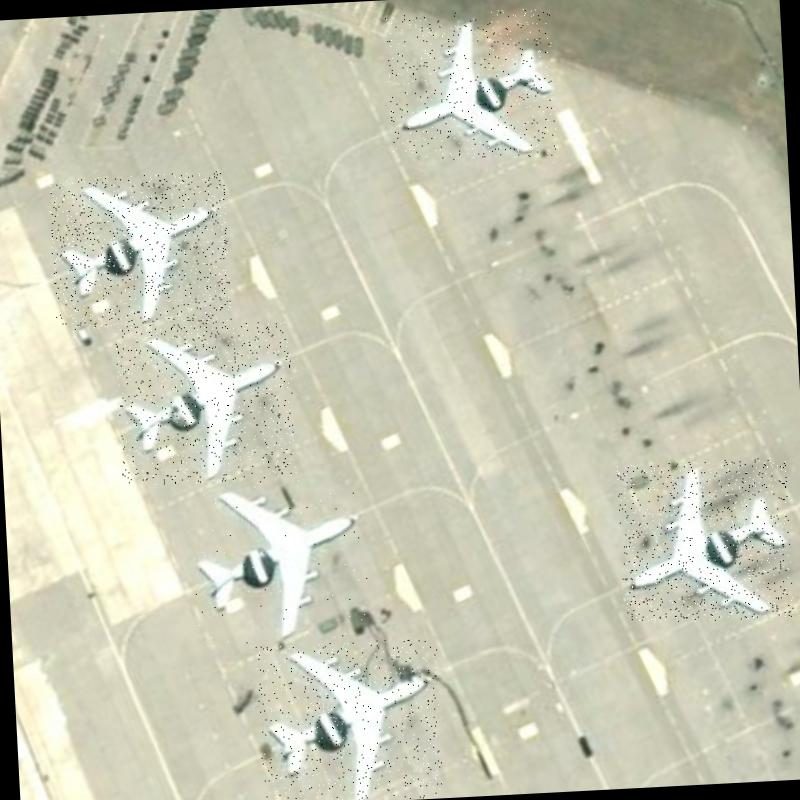A7: (190, 475, 372, 648), (256, 637, 445, 800), (115, 320, 297, 486), (617, 457, 794, 626), (48, 171, 232, 332), (384, 8, 558, 164)
